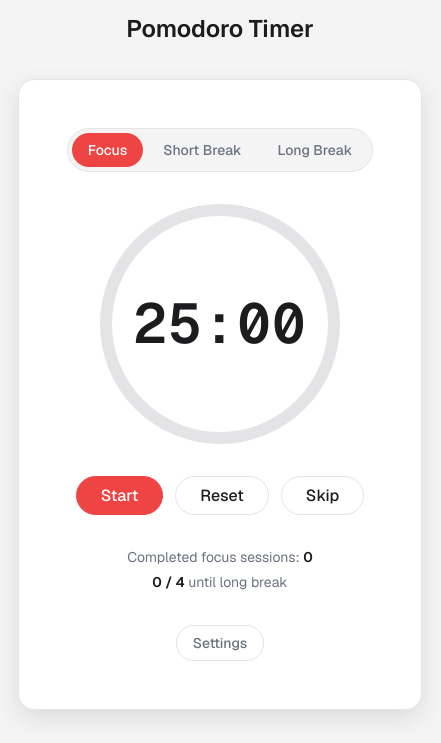
SettingsPanel — settings & persistence › changing focus minutes in settings updates the display and writes to localStorage
This screenshot has width=441, height=743.
Click the button "Settings" at point(220, 642), box [176,624,264,660]
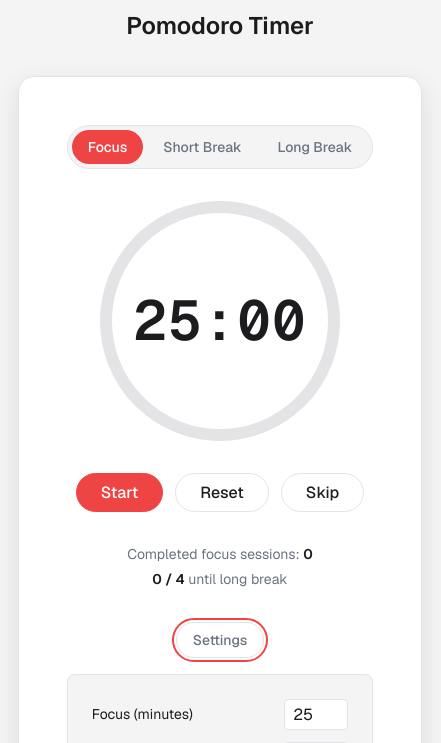
Replace the text in the number field labelled "Focus (minutes)" with "10" at point(316, 714), box [284,699,348,730]
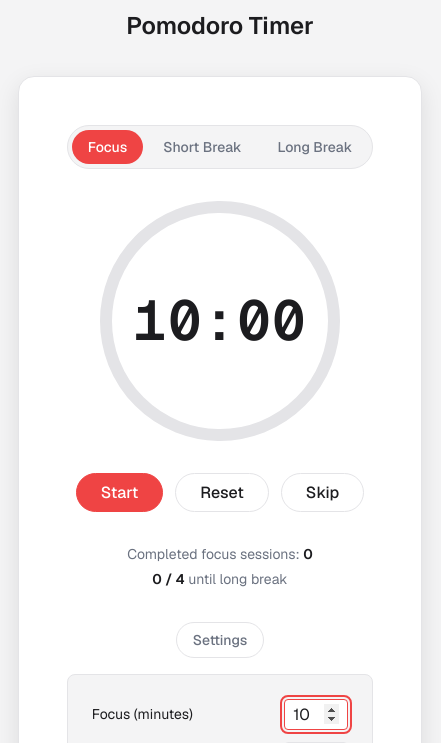
Now the text "10:00" is shown, box [133,293,307,349]
